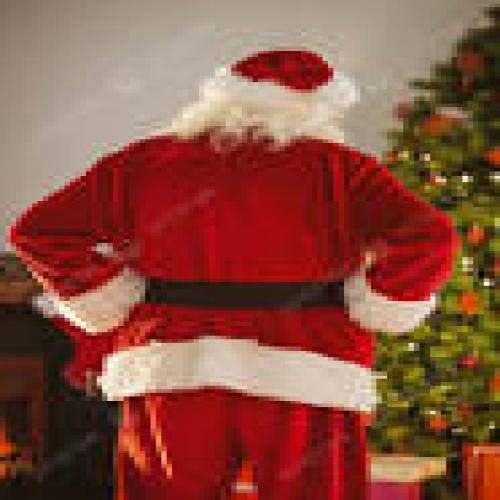Santa: (7, 45, 463, 500)
